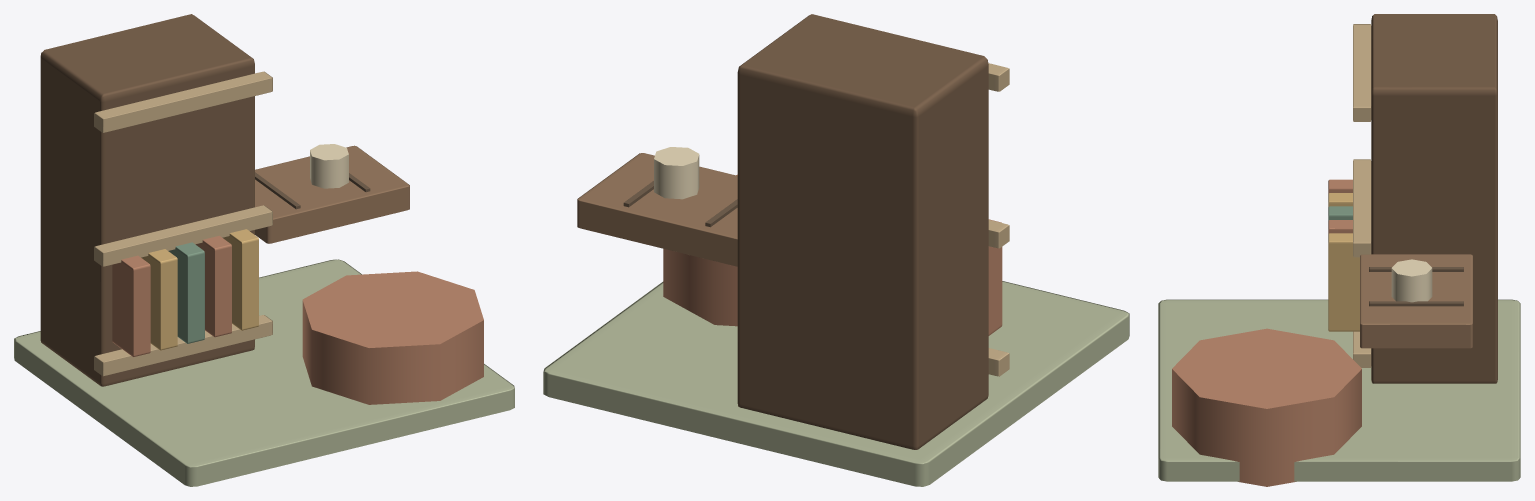
File: readingnook-0.glb
The picture shows the model from 3 angles, left to right: view 1: azimuth 30°, elevation 25°; view 2: azimuth 150°, elevation 25°; view 3: azimuth 270°, elevation 25°; orthographic projection. The views are drawn at different scales.
Visible parts, largest first — view 1: readingnook-0-0; view 2: readingnook-0-0; view 3: readingnook-0-0.
Part boxes in pixels (x1,y1,x2,y2): readingnook-0-0: [14, 14, 514, 486]; readingnook-0-0: [543, 14, 1129, 486]; readingnook-0-0: [1158, 14, 1520, 486].
Bounding box in the file's own units: 0.875 × 0.77 × 0.8.
